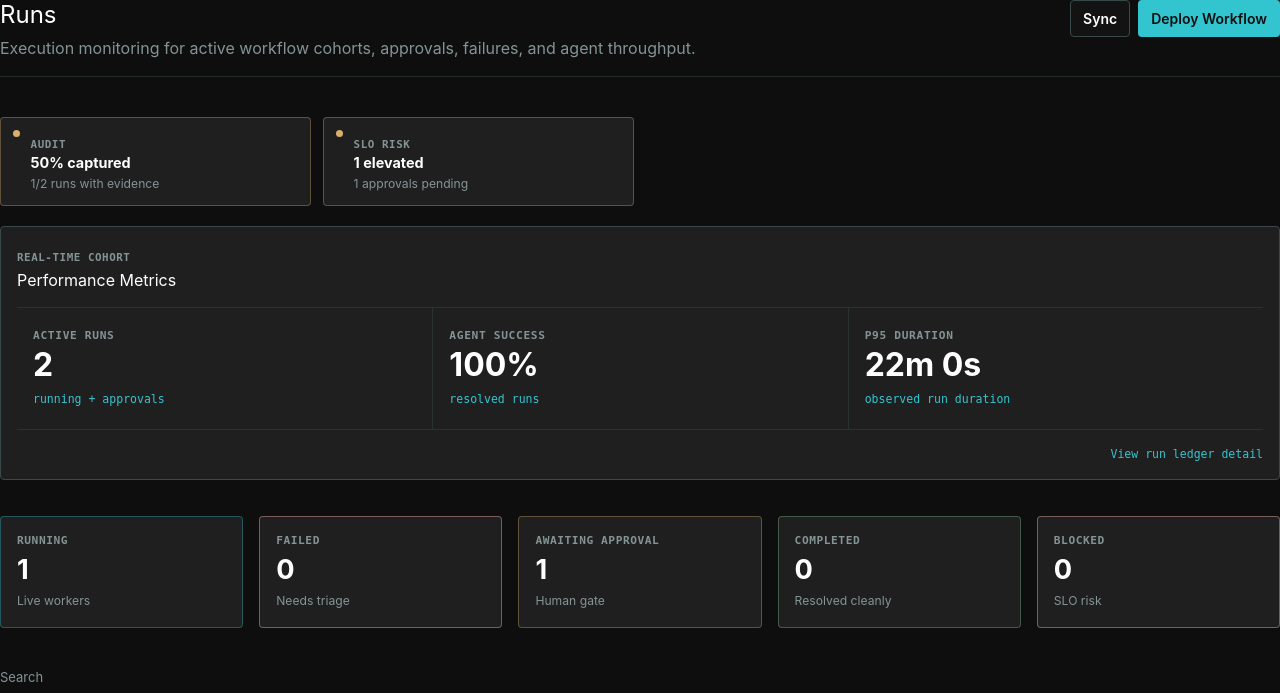
it: RunBoard integration › keeps existing run data visible and shows a toast when refresh fails
This screenshot has width=1280, height=693.
Expected: the heading "Runs" is shown, [0,0,56,29]
Step 1. Click the button "Sync" → (1100, 19), box [1070,0,1130,37]
(page scrolled)
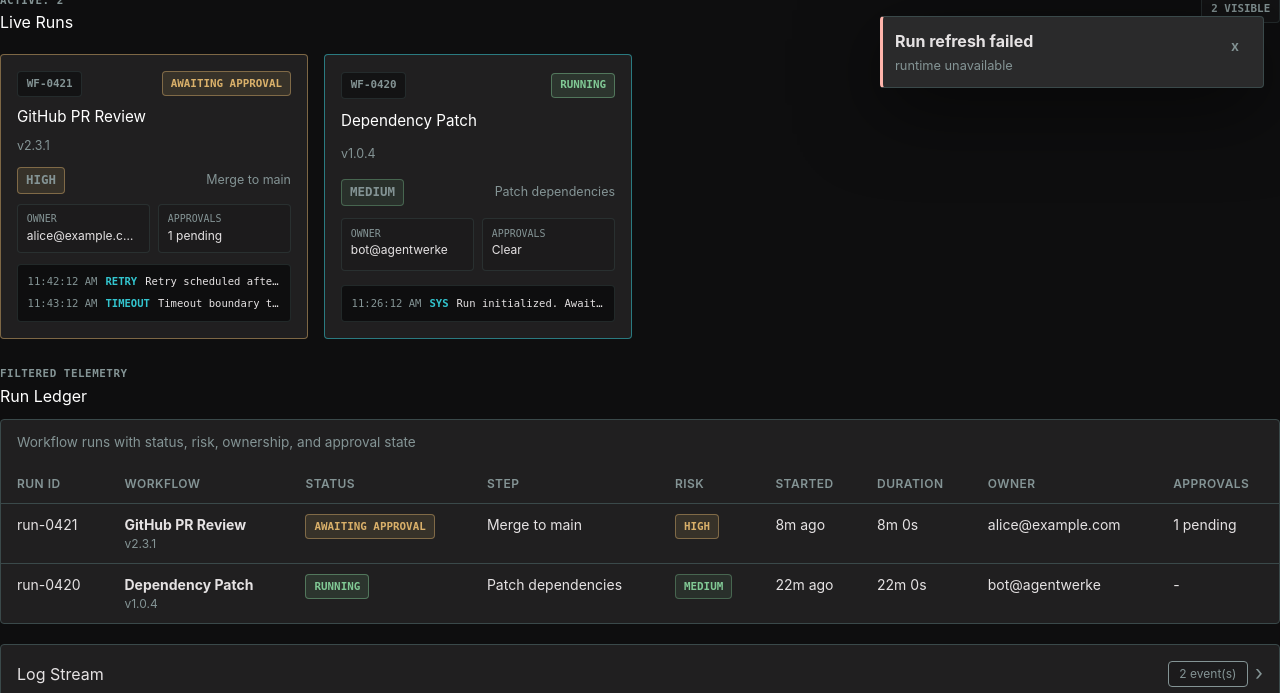
Expected: the text "run-0421" is shown, [1,503,108,563]
Expected: the message shows "Run refresh failed", [895,31,1033,51]
Expected: the text "runtime unavailable" is shown, [895,58,1013,73]
